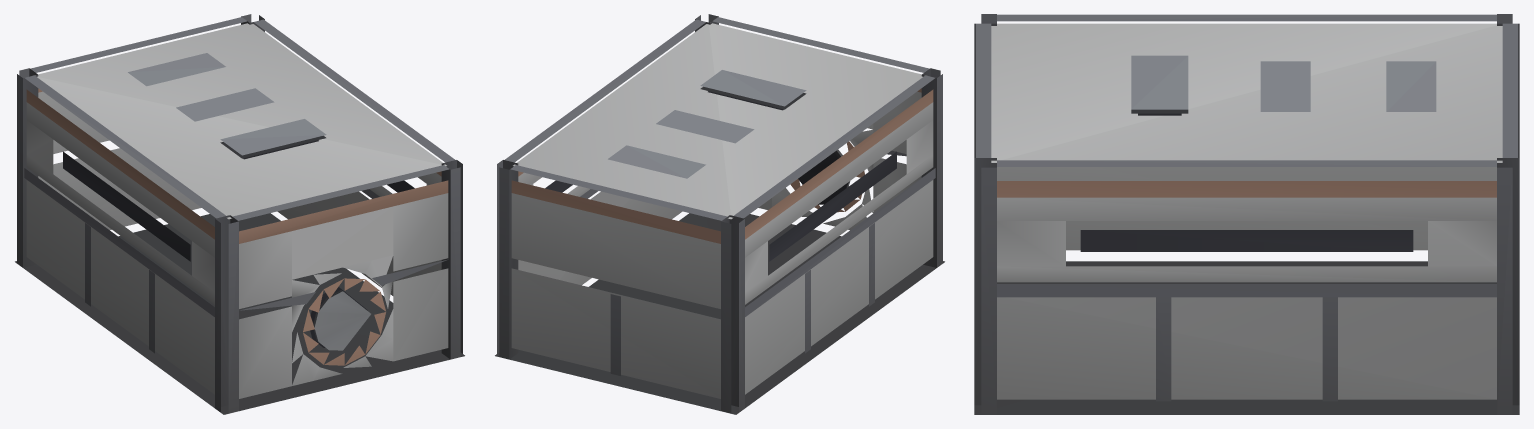
Rendered from depot.lod.glb.
3 renders of one model, left to right at view 1: azimuth 30°, elevation 25°; view 2: azimuth 150°, elevation 25°; view 3: azimuth 270°, elevation 25°, orthographic. The views are drawn at different scales.
Visible parts, largest first — view 1: depot; view 2: depot; view 3: depot.
Part boxes in pixels (x1,y1,x2,y2): depot: [15, 14, 464, 414]; depot: [495, 14, 944, 414]; depot: [974, 14, 1519, 414].
Bounding box in the file's own units: 10.4 × 8.06 × 15.6.
